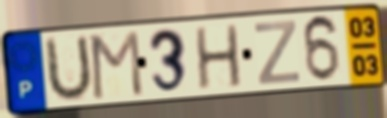3: (146, 26, 193, 98)
6: (301, 12, 346, 87)
H: (193, 22, 245, 92)
M: (89, 29, 145, 102)
U: (44, 32, 95, 105)
Z: (253, 18, 302, 87)
